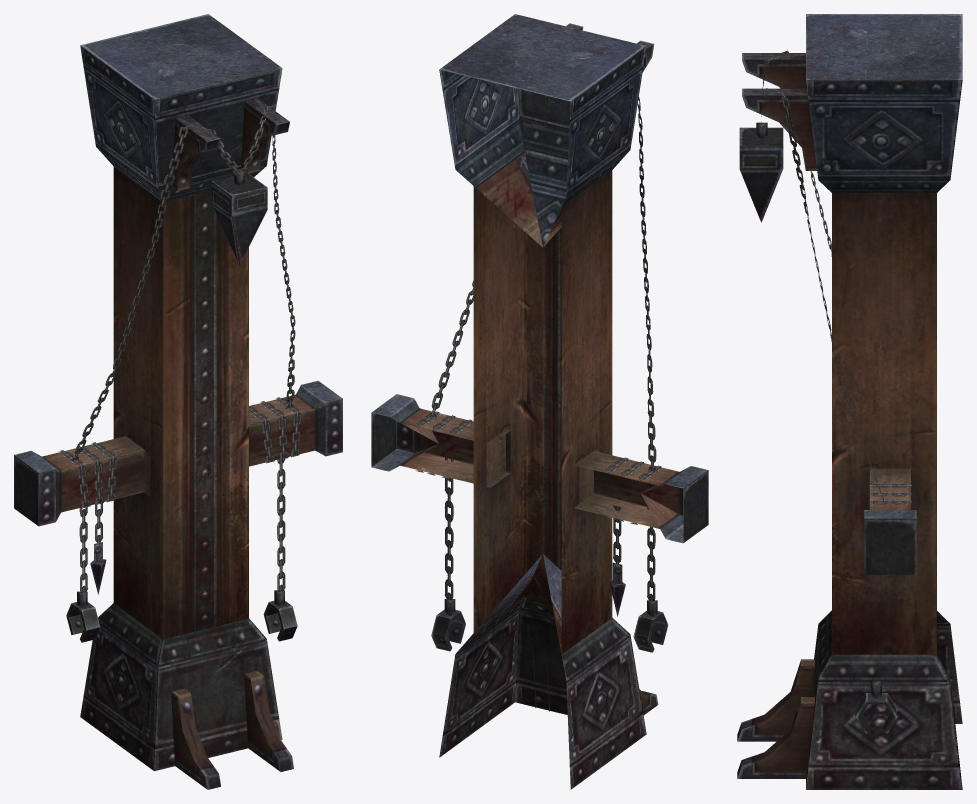
File: fb_jianyu_xingjia02.FBX
The picture shows the model from 3 angles, left to right: view 1: azimuth 30°, elevation 25°; view 2: azimuth 150°, elevation 25°; view 3: azimuth 270°, elevation 25°; orthographic projection. The views are drawn at different scales.
Parts seen in each view (by area): view 1: fb_jianyu_xingjia02; view 2: fb_jianyu_xingjia02; view 3: fb_jianyu_xingjia02.
Part boxes in pixels (left/top/right/bottom): fb_jianyu_xingjia02: left=14, top=14, right=342, bottom=789; fb_jianyu_xingjia02: left=371, top=14, right=708, bottom=789; fb_jianyu_xingjia02: left=737, top=14, right=962, bottom=789.
Bounding box in the file's own units: 268 × 565 × 163.
